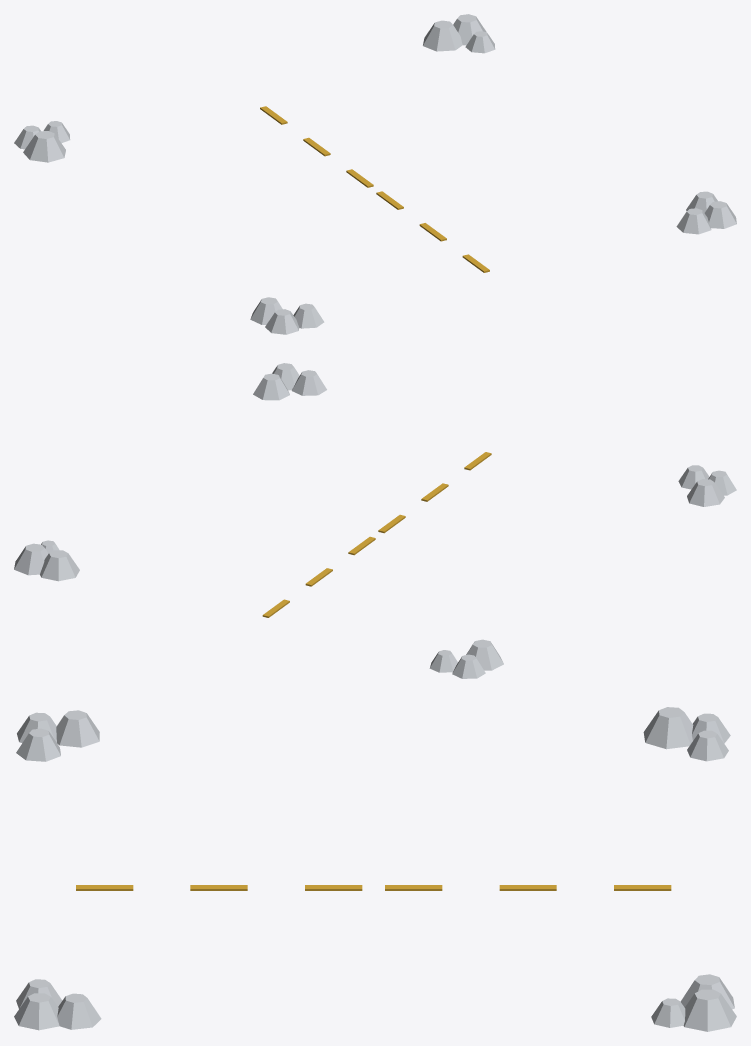
File: Road_Straight_Marks.glb
The picture shows the model from 3 angles, top to bottom: view 1: azimuth 30°, elevation 25°; view 2: azimuth 150°, elevation 25°; view 3: azimuth 270°, elevation 25°; orthographic projection. The views are drawn at different scales.
Visible parts, largest first — view 1: Road_Straight_Marks; view 2: Road_Straight_Marks; view 3: Road_Straight_Marks.
Boxes of the visible parts, bbox=[...] form: Road_Straight_Marks: bbox=[14, 14, 736, 334]; Road_Straight_Marks: bbox=[14, 363, 736, 678]; Road_Straight_Marks: bbox=[14, 707, 736, 1031].
Bounding box in the file's own units: 31.75 × 1.72 × 31.59.
